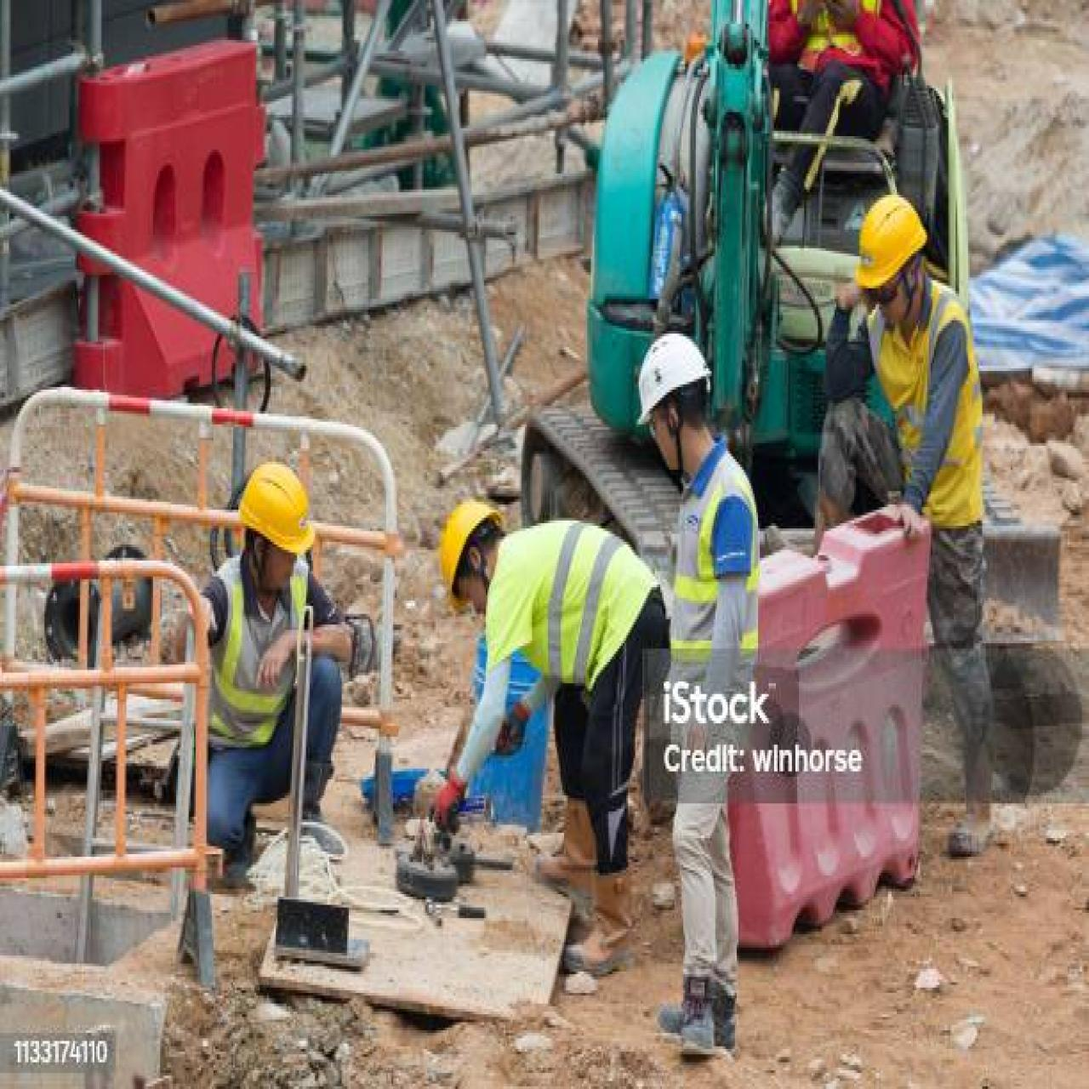NO_Safety_Vest: (865, 286, 986, 529), (485, 524, 655, 687)
Person: (797, 167, 1011, 863), (610, 310, 773, 1070), (144, 450, 384, 886), (430, 483, 672, 891)
Safety_Vest: (202, 556, 342, 753), (665, 456, 763, 733)
